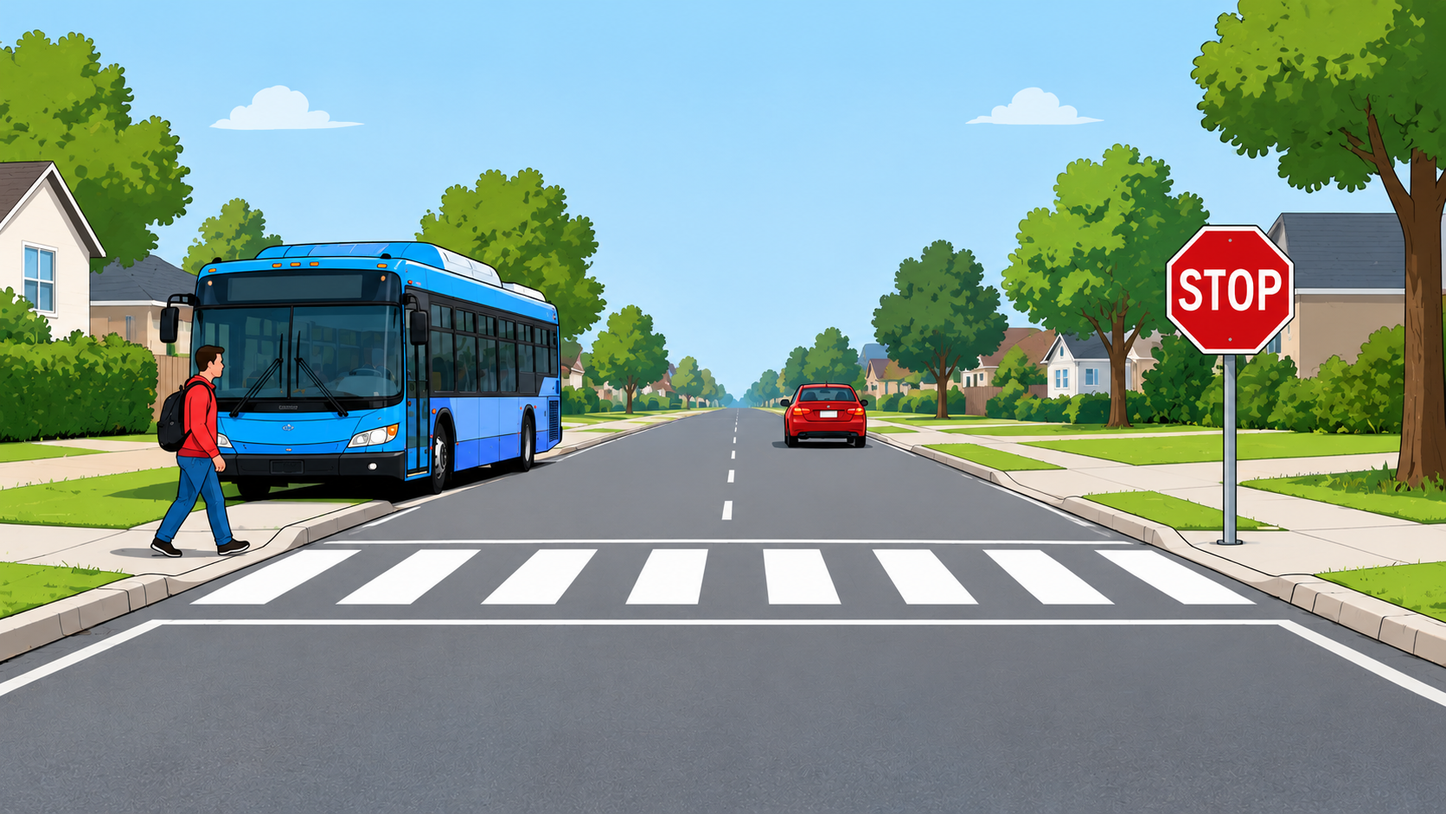bus: (159, 241, 561, 490)
car: (784, 384, 868, 448)
person: (153, 347, 249, 559)
stop_sign: (1168, 225, 1292, 358)
zebra_crossing: (0, 542, 1290, 626)
